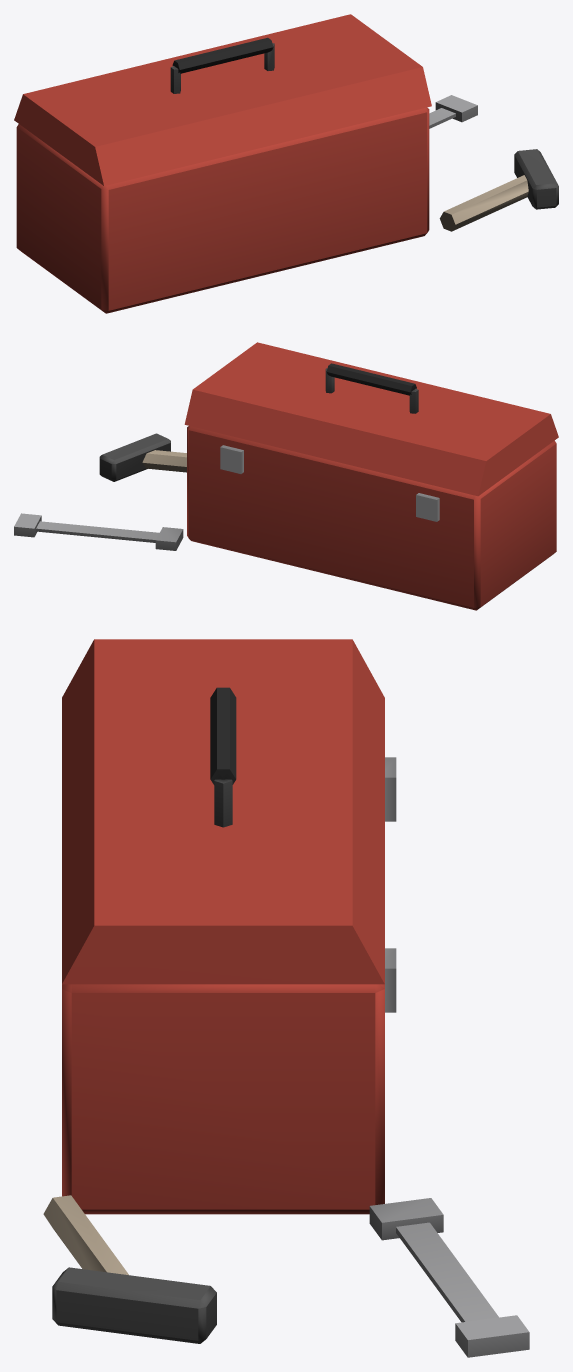
The model's file is toolbox.glb.
3 renders of one model, top to bottom at view 1: azimuth 30°, elevation 25°; view 2: azimuth 150°, elevation 25°; view 3: azimuth 270°, elevation 25°, orthographic. The views are drawn at different scales.
Parts seen in each view (by area): view 1: static; view 2: static; view 3: static.
Boxes of the visible parts, x1=… form: static: x1=14, y1=14, x2=558, y2=313; static: x1=14, y1=342, x2=558, y2=610; static: x1=43, y1=639, x2=529, y2=1357.
Size of the model in its own units: 0.6241 by 0.2369 by 0.3011.
